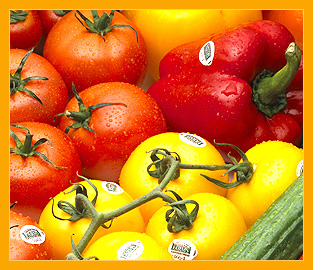capsicum: (147, 21, 304, 164)
